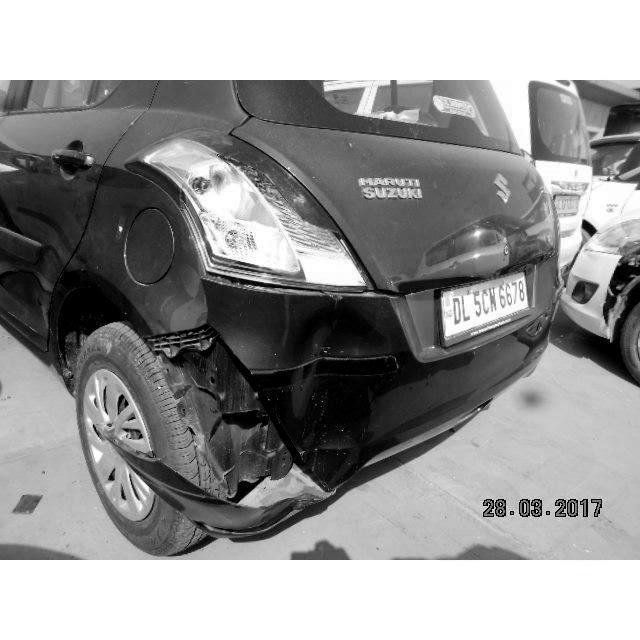rear-bumper-dent: (167, 270, 454, 520)
